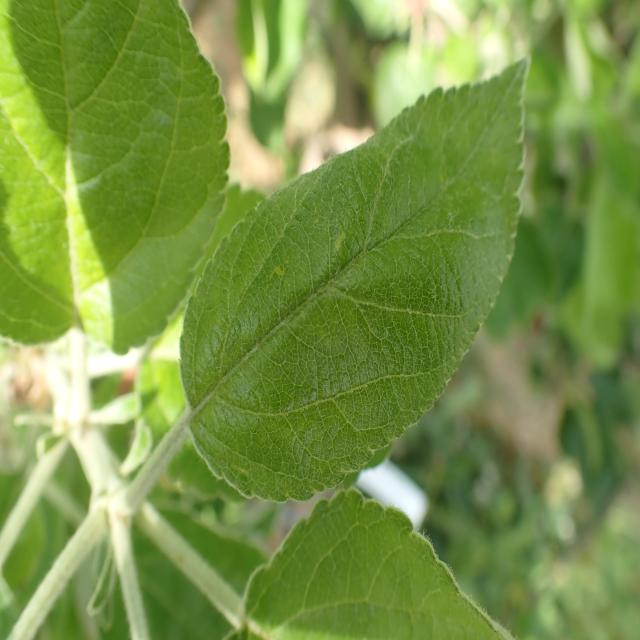healthy: (179, 52, 530, 505), (0, 0, 232, 355), (225, 487, 516, 640)
